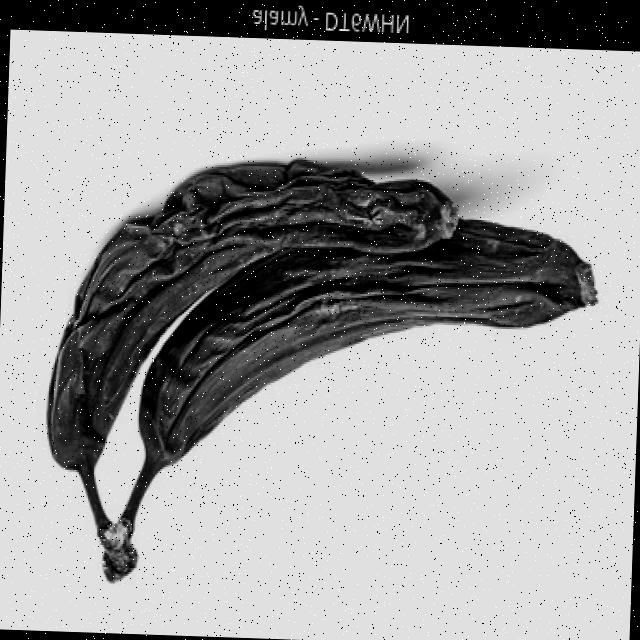Rotten: (19, 148, 462, 481)
